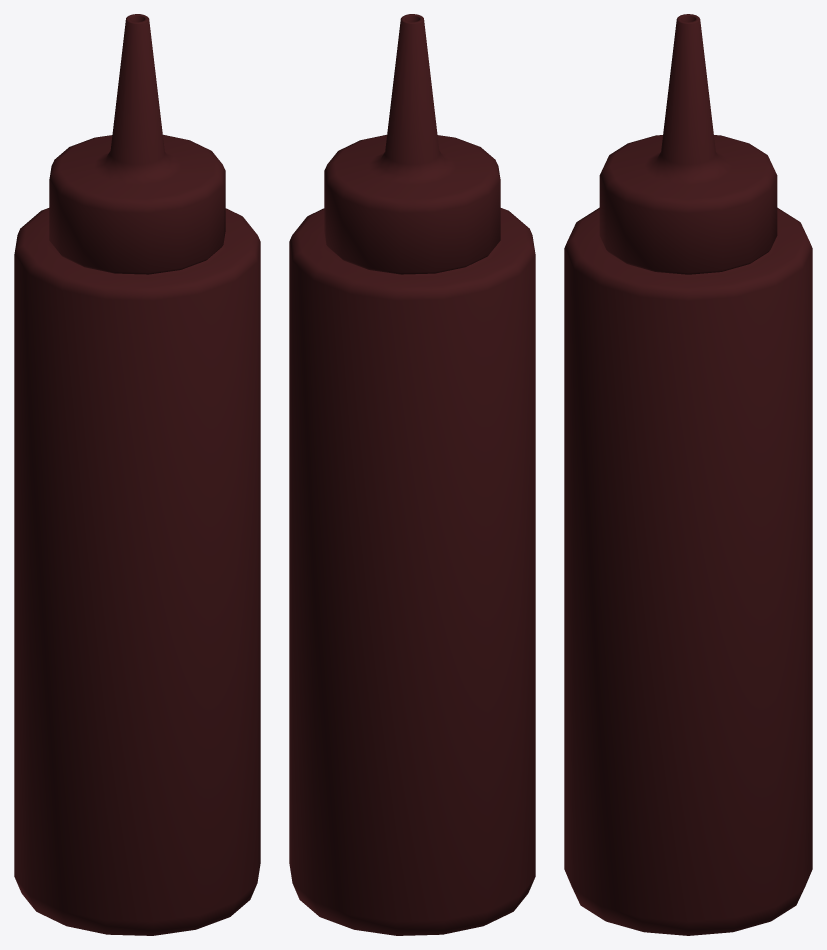
File: StallProp_G.fbx
3 renders of one model, left to right at view 1: azimuth 30°, elevation 25°; view 2: azimuth 150°, elevation 25°; view 3: azimuth 270°, elevation 25°, orthographic.
Visible parts, largest first — view 1: StallProp_G; view 2: StallProp_G; view 3: StallProp_G.
Boxes of the visible parts, x1,y1,x2,y2 form: StallProp_G: (14, 14, 260, 935); StallProp_G: (289, 14, 535, 935); StallProp_G: (564, 14, 812, 935).
Size of the model in its own units: 0.0774 by 0.3009 by 0.0774.
